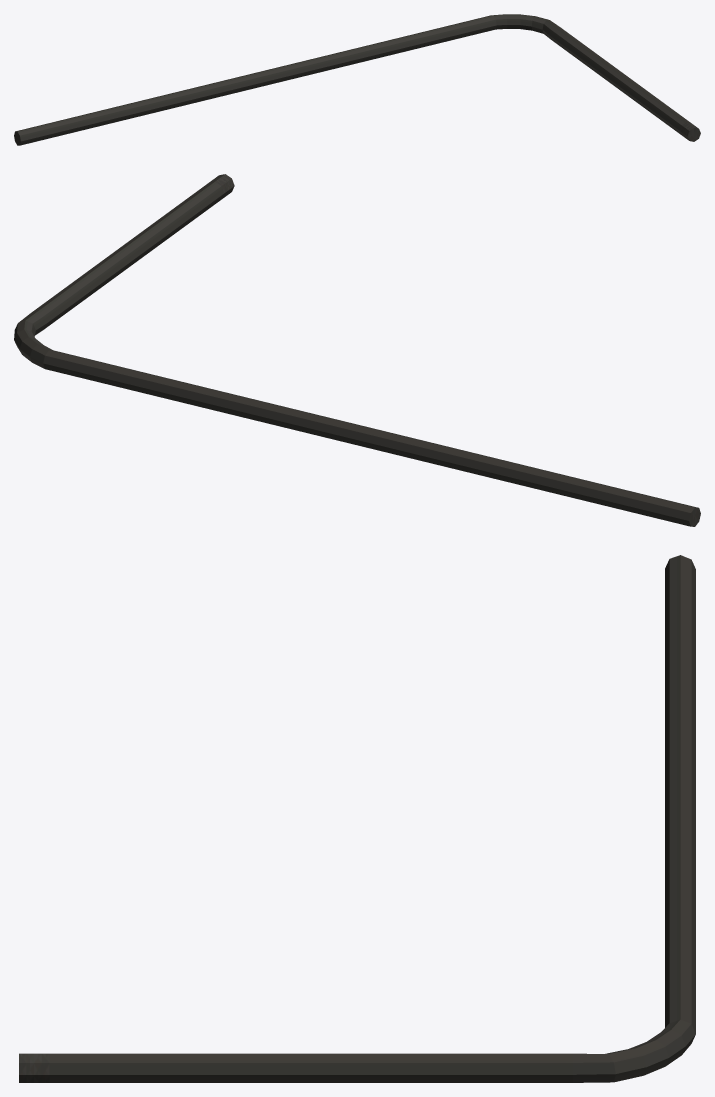
File: mdlCoverHolder.fbx
3 renders of one model, top to bottom at view 1: azimuth 30°, elevation 25°; view 2: azimuth 150°, elevation 25°; view 3: azimuth 270°, elevation 25°, orthographic. The views are drawn at different scales.
Visible parts, largest first — view 1: MedibaySheetHolder; view 2: MedibaySheetHolder; view 3: MedibaySheetHolder.
Part boxes in pixels (x1,y1,x2,y2): MedibaySheetHolder: (14,14,700,145); MedibaySheetHolder: (14,174,700,526); MedibaySheetHolder: (19,555,695,1082).
Size of the model in its own units: 17.43 by 0.4542 by 9.85.
